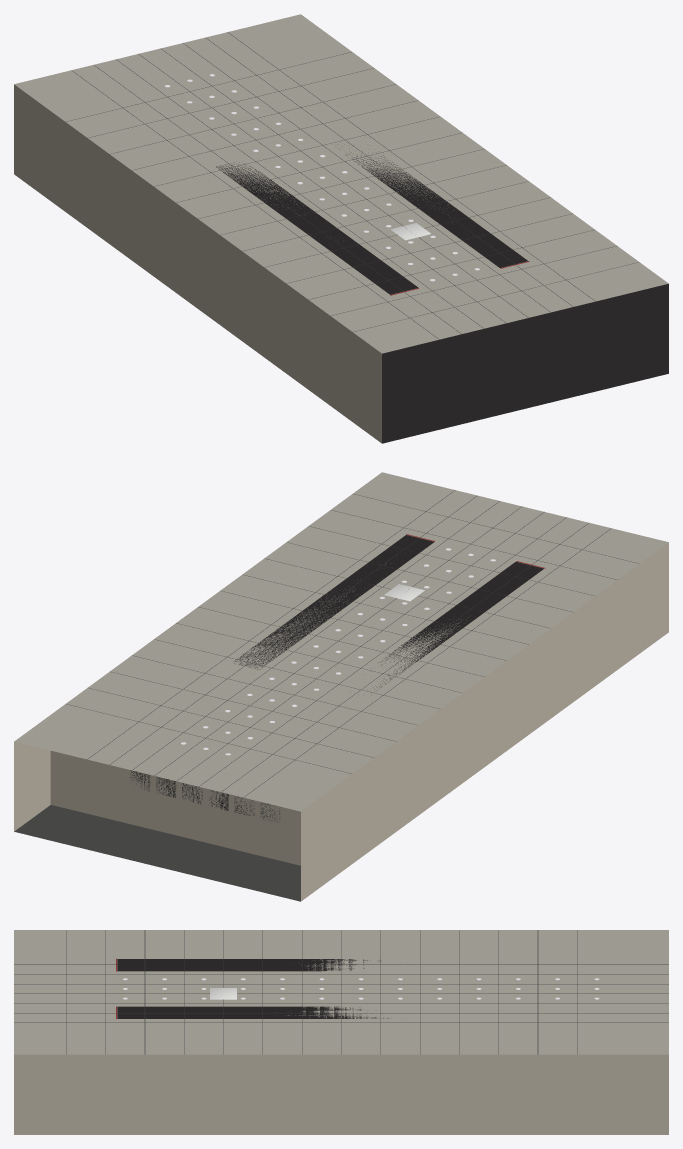
The model's file is Room.glb.
3 views of the same model, one above another, from view 1: azimuth 30°, elevation 25°; view 2: azimuth 150°, elevation 25°; view 3: azimuth 270°, elevation 25° (orthographic). The views are drawn at different scales.
Visible parts, largest first — view 1: Ceiling, WallL, FrontWall, IslandL_Back, IslandR_Back, IslandL_Upper, IslandR_Upper; view 2: Ceiling, WallL, BackWall, Floor, IslandR_Back, WallR, IslandL_Back, IslandR_Upper, IslandL_Upper; view 3: Ceiling, WallR, IslandR_Back, IslandL_Back, IslandR_Upper, IslandL_Upper, CeilSeamX_-1, CeilSeamX_0, CeilSeamX_1, CeilSeamX_3, CeilSeamX_4, CeilSeamX_5 (+2 smaller).
Part boxes in pixels (x1,y1,x2,y2): Ceiling: [14, 14, 668, 353]; WallL: [14, 84, 381, 443]; FrontWall: [382, 283, 668, 443]; IslandL_Back: [216, 164, 408, 294]; IslandR_Back: [355, 151, 528, 265]; IslandL_Upper: [238, 162, 418, 289]; IslandR_Upper: [346, 152, 508, 267]; Ceiling: [14, 472, 668, 811]; WallL: [301, 542, 668, 901]; BackWall: [50, 751, 300, 865]; Floor: [14, 805, 300, 901]; IslandR_Back: [234, 535, 424, 667]; WallR: [14, 741, 50, 831]; IslandL_Back: [373, 564, 543, 688]; IslandR_Upper: [251, 539, 434, 669]; IslandL_Upper: [370, 561, 524, 671]; Ceiling: [14, 930, 668, 1054]; WallR: [14, 1054, 668, 1134]; IslandR_Back: [117, 1010, 387, 1018]; IslandL_Back: [117, 959, 379, 967]; IslandR_Upper: [117, 1006, 361, 1010]; IslandL_Upper: [117, 967, 364, 971]; CeilSeamX_-1: [14, 964, 668, 964]; CeilSeamX_0: [14, 974, 668, 974]; CeilSeamX_1: [14, 984, 668, 984]; CeilSeamX_3: [14, 1003, 668, 1003]; CeilSeamX_4: [14, 1013, 668, 1013]; CeilSeamX_5: [14, 1022, 668, 1022].
Bounding box in the file's own units: 9 × 2.7 × 20.
